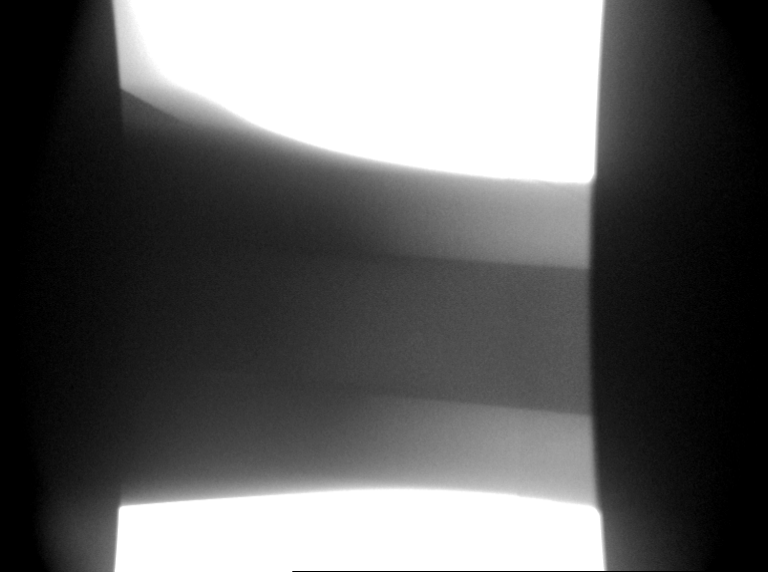defect: (402, 328, 436, 359)
